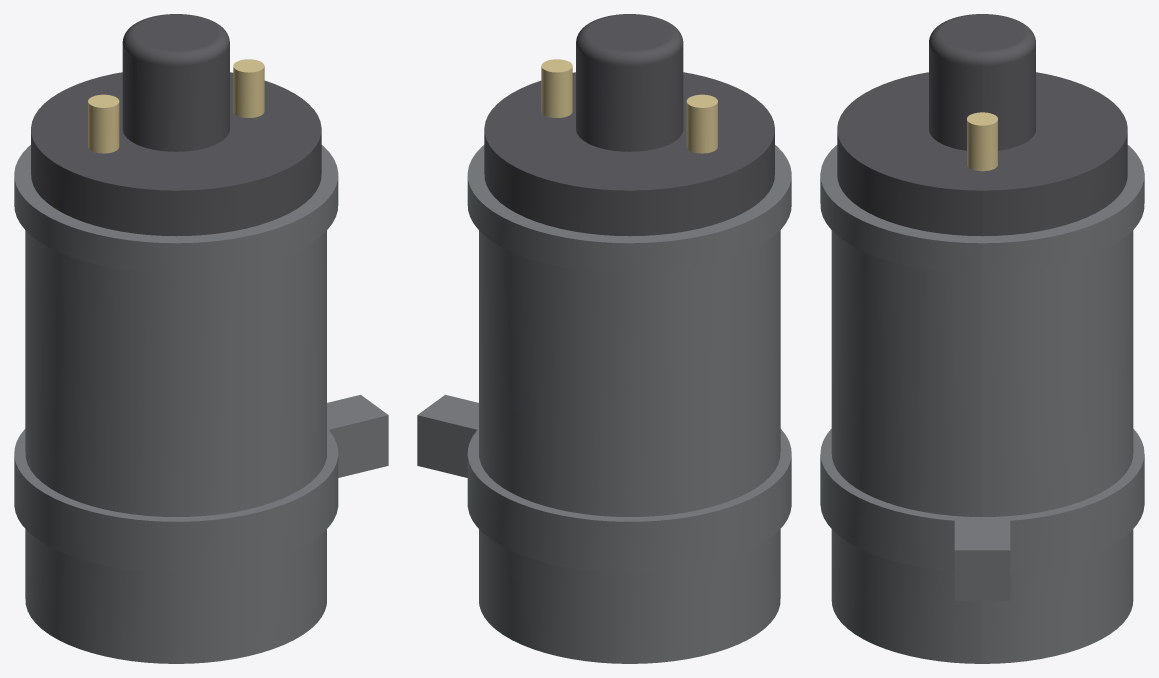
Rendered from ignition-coil.glb.
The picture shows the model from 3 angles, left to right: view 1: azimuth 30°, elevation 25°; view 2: azimuth 150°, elevation 25°; view 3: azimuth 270°, elevation 25°; orthographic projection.
Parts seen in each view (by area): view 1: coil can w/ band clamp, cap and HT tower, primary terminals; view 2: coil can w/ band clamp, cap and HT tower, primary terminals; view 3: coil can w/ band clamp, cap and HT tower, primary terminals.
Boxes of the visible parts, bbox=[...] form: coil can w/ band clamp: bbox=[14, 145, 388, 663]; cap and HT tower: bbox=[31, 14, 321, 236]; primary terminals: bbox=[88, 59, 264, 153]; coil can w/ band clamp: bbox=[417, 145, 791, 663]; cap and HT tower: bbox=[484, 14, 774, 236]; primary terminals: bbox=[541, 59, 717, 153]; coil can w/ band clamp: bbox=[820, 145, 1144, 663]; cap and HT tower: bbox=[837, 14, 1127, 236]; primary terminals: bbox=[967, 112, 997, 171].
Size of the model in its own units: 0.0035 by 0.0056 by 0.0029.
